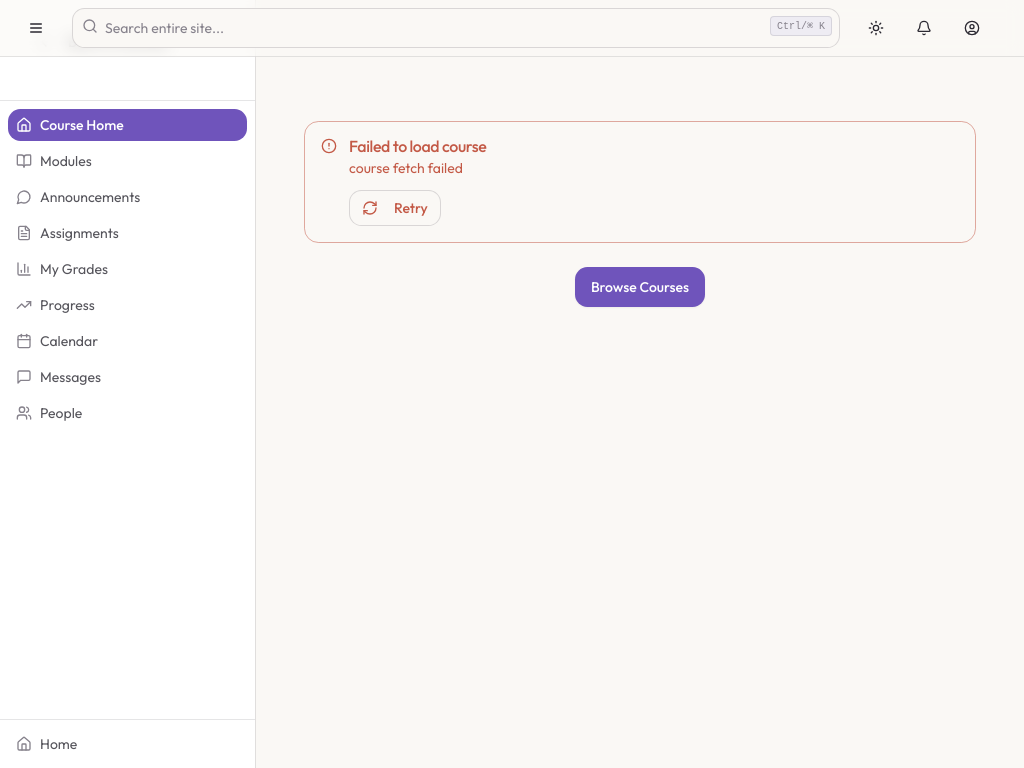
Test case: CourseDetail › shows the error UI when the course query fails and retry refetches
The image size is (1024, 768).
Expected: the message "Failed to load course course fetch failed Retry" is shown, [304, 121, 976, 243]
Expected: the heading "Failed to load course" is shown, [349, 136, 486, 156]
Click the button "Retry" at [395, 208], box [349, 190, 441, 226]
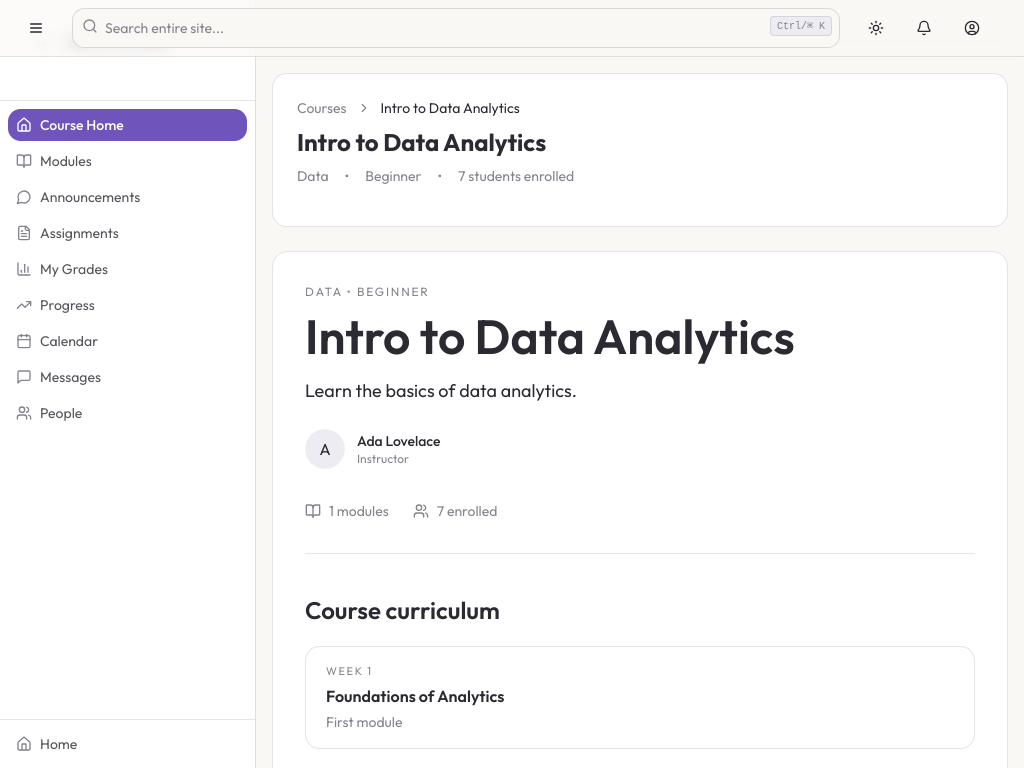
Result: the link "Intro to Data Analytics" is shown at [380, 98, 520, 118]
Result: the text "course fetch failed" is gone
